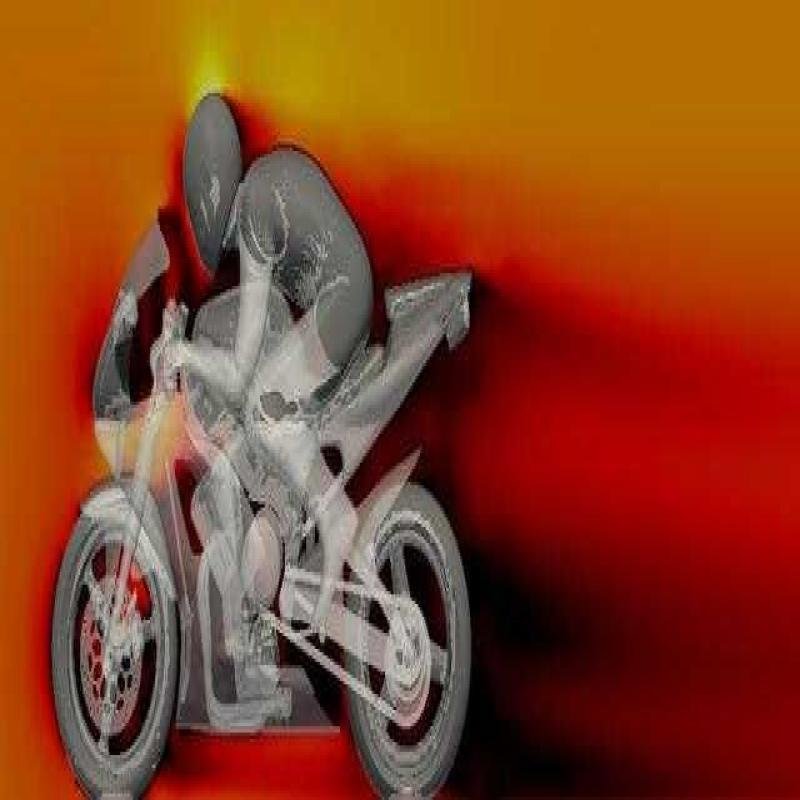bike: (58, 217, 498, 800)
